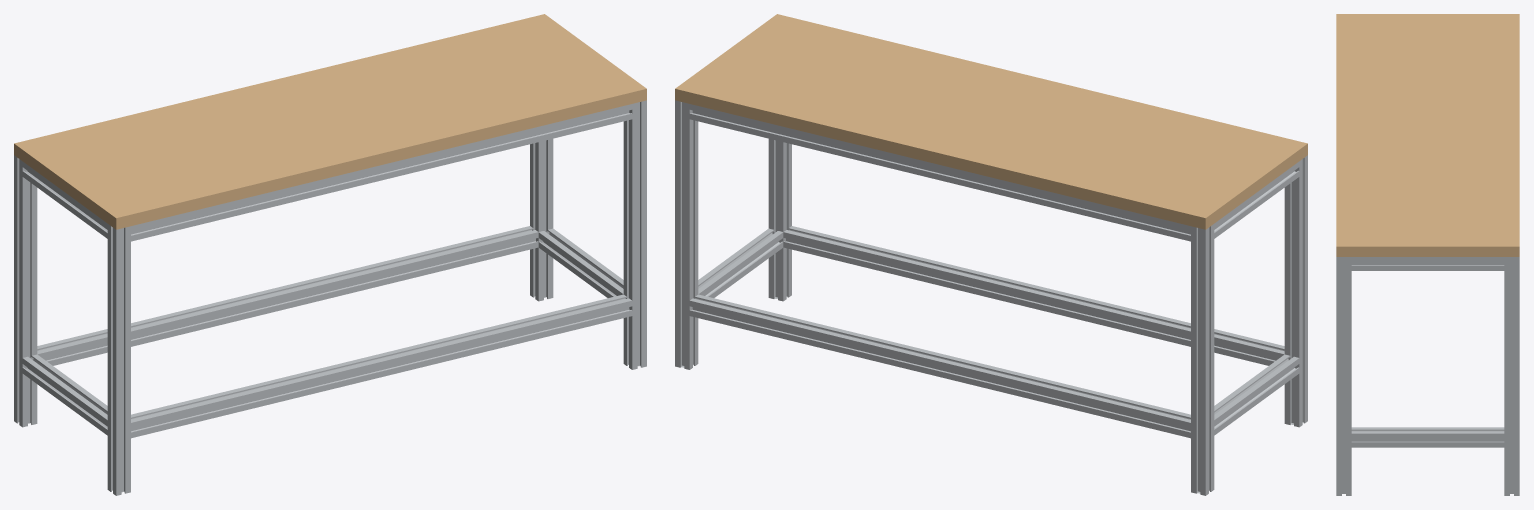
File: shelf_8020_1010.far.glb
The picture shows the model from 3 angles, left to right: view 1: azimuth 30°, elevation 25°; view 2: azimuth 150°, elevation 25°; view 3: azimuth 270°, elevation 25°; orthographic projection. The views are drawn at different scales.
Visible parts, largest first — view 1: shelf_8020_1010, rail_low_front, rail_low_back, rail_top_front, leg_3, leg_4, leg_2, leg_1, rail_low_right, rail_low_left, rail_top_right; view 2: shelf_8020_1010, rail_low_back, rail_low_front, rail_top_back, leg_2, leg_1, leg_3, leg_4, rail_low_right, rail_low_left, rail_top_right; view 3: shelf_8020_1010, leg_1, leg_4, rail_low_left, rail_top_left.
Part boxes in pixels (<box>): shelf_8020_1010: <box>14,14,646,229</box>; rail_low_front: <box>131,294,632,438</box>; rail_low_back: <box>37,226,538,365</box>; rail_top_front: <box>131,104,632,241</box>; leg_3: <box>107,224,130,495</box>; leg_4: <box>623,100,646,369</box>; leg_2: <box>14,155,37,427</box>; leg_1: <box>530,138,553,301</box>; rail_low_right: <box>22,354,107,435</box>; rail_low_left: <box>538,228,623,297</box>; rail_top_right: <box>22,162,107,238</box>; shelf_8020_1010: <box>675,14,1307,229</box>; rail_low_back: <box>689,294,1190,438</box>; rail_low_front: <box>783,226,1284,365</box>; rail_top_back: <box>689,104,1190,241</box>; leg_2: <box>1191,224,1214,495</box>; leg_1: <box>675,100,698,369</box>; leg_3: <box>1284,155,1307,427</box>; leg_4: <box>768,138,791,301</box>; rail_low_right: <box>1214,354,1299,435</box>; rail_low_left: <box>698,228,783,297</box>; rail_top_right: <box>1214,162,1299,238</box>; shelf_8020_1010: <box>1336,14,1519,256</box>; leg_1: <box>1504,257,1519,495</box>; leg_4: <box>1336,257,1351,495</box>; rail_low_left: <box>1351,427,1504,447</box>; rail_top_left: <box>1351,257,1504,270</box>.
Bounding box in the file's own units: 0.9144 × 0.4572 × 0.3048.
